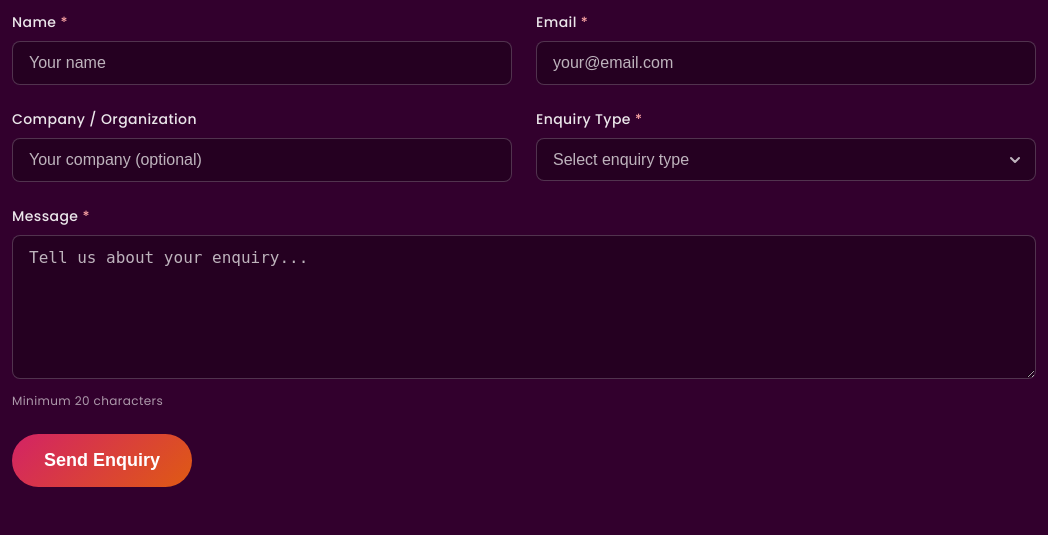
Test: EnquiryForm › shows validation error for short message
This screenshot has width=1048, height=535.
In the field labelled "Name *": [262, 63] box [12,41,512,85], type "John Doe"
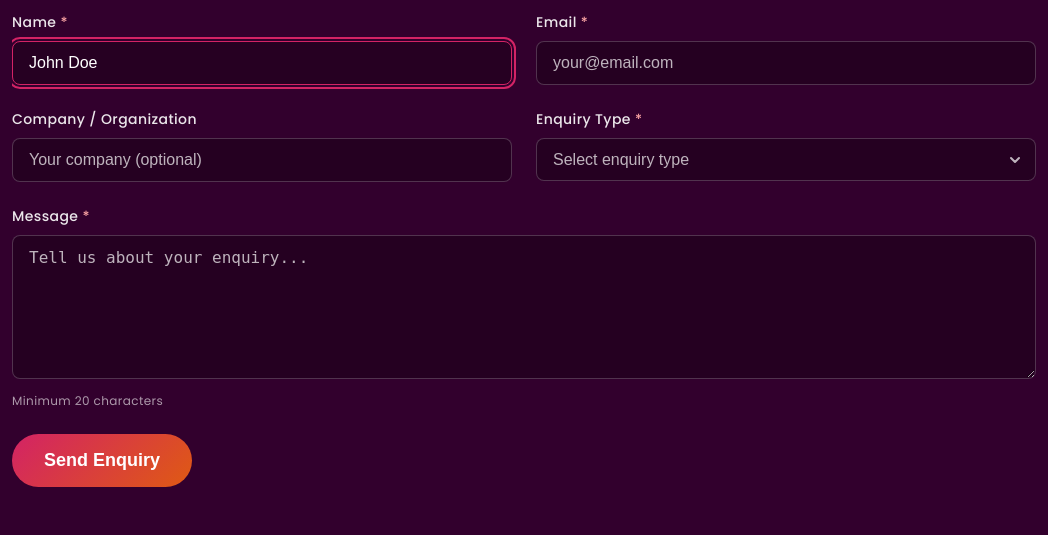
In the field labelled "Email *": [786, 63] box [536,41,1036,85], type "john@example.com"
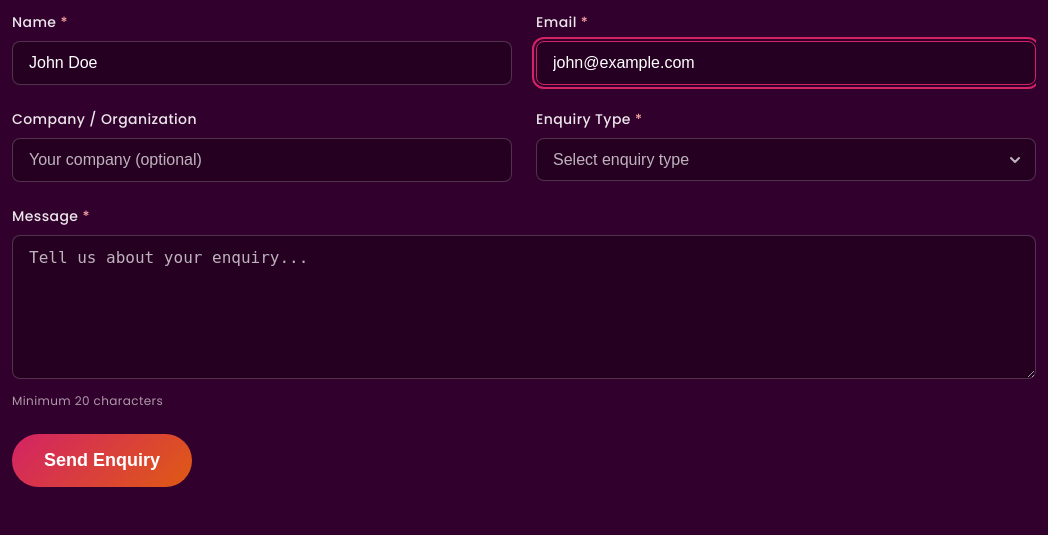
Select "Other" in the dropdown labelled "Enquiry Type *": [786, 160] box [536,138,1036,181]
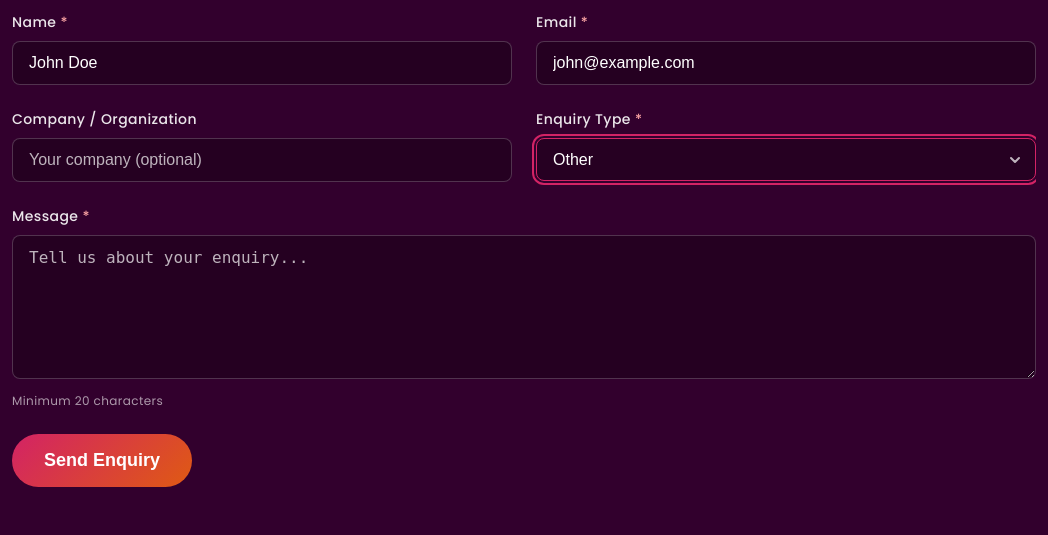
In the text box labelled "Message *": [524, 307] box [12,235,1036,379], type "Short"
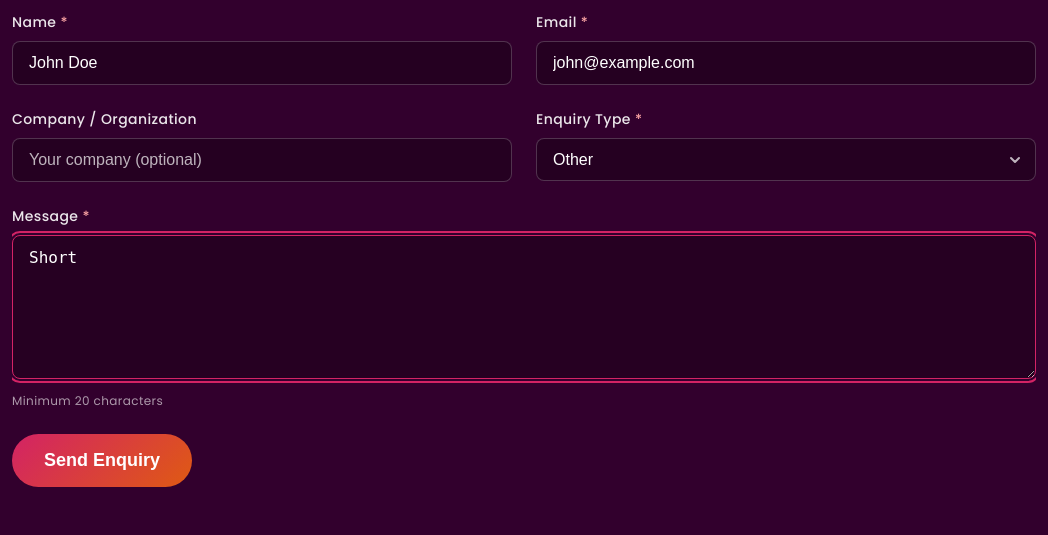
Click the button "Send Enquiry": [102, 460] box [12,434,192,487]
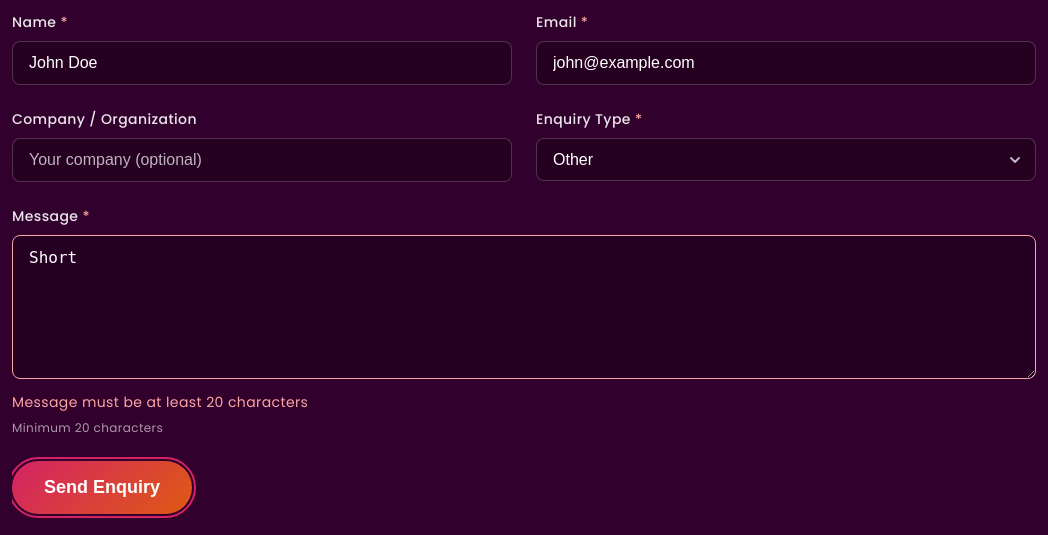
Now the text "Message must be at least 20 characters" is shown, box [12,392,308,412]
